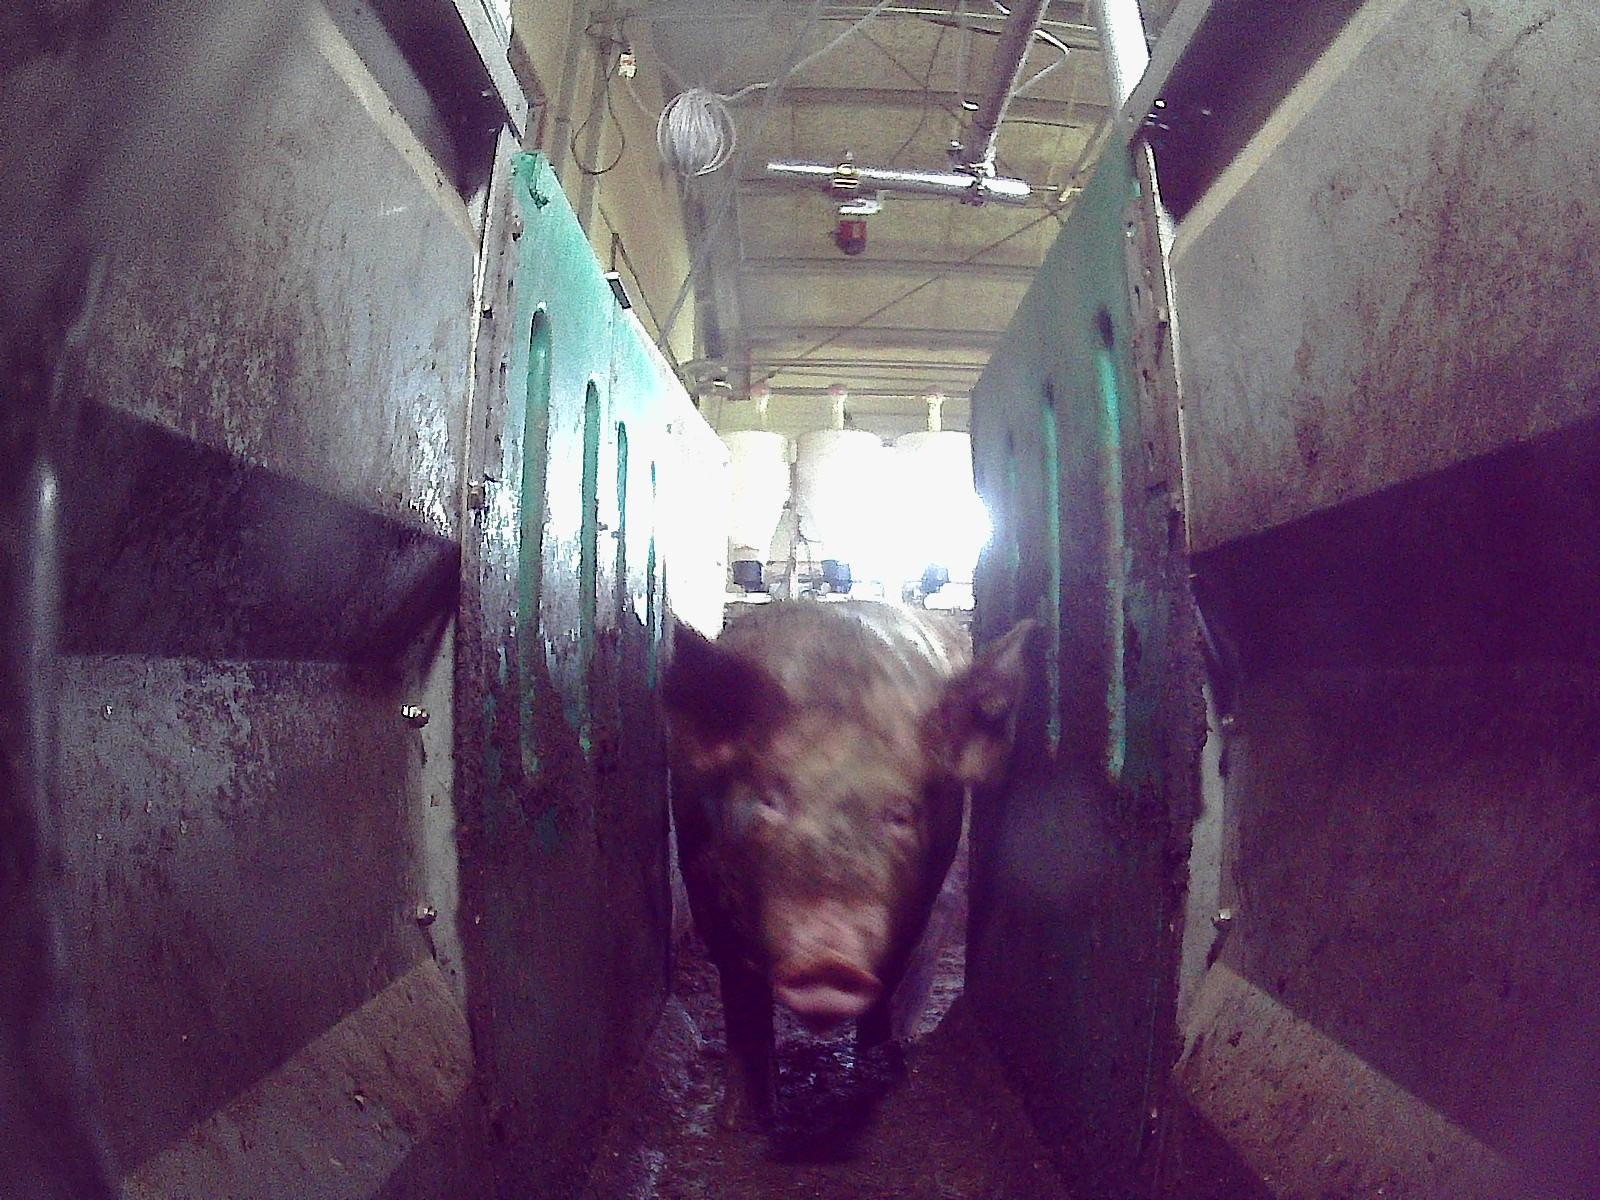Face: (711, 698, 943, 1013)
